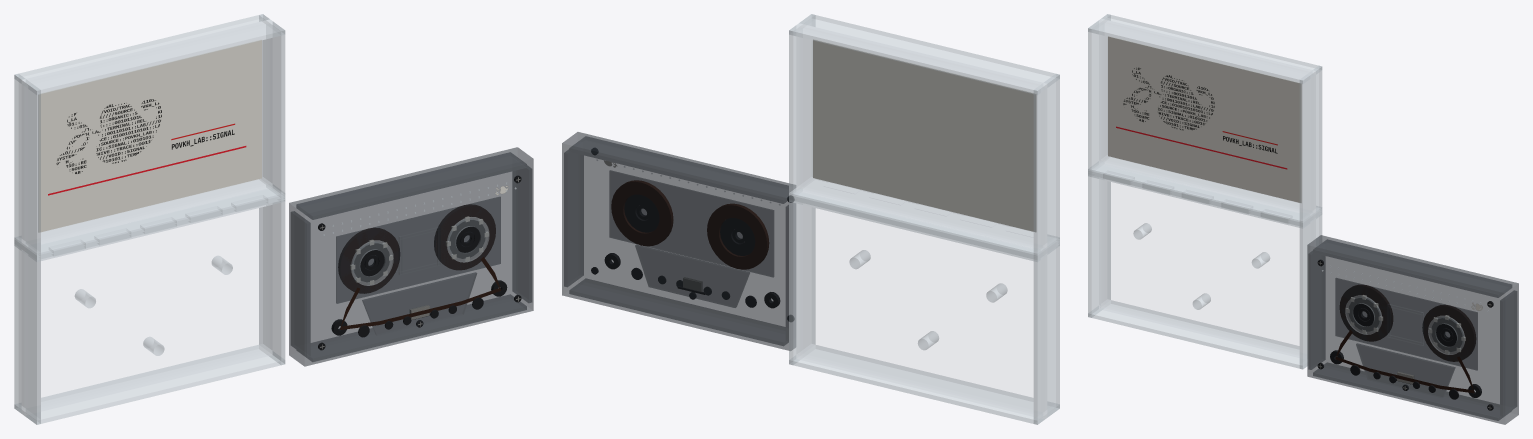
Rendered from cassette-002.glb.
The picture shows the model from 3 angles, left to right: view 1: azimuth 30°, elevation 25°; view 2: azimuth 150°, elevation 25°; view 3: azimuth 330°, elevation 25°; orthographic projection. The views are drawn at different scales.
Parts seen in each view (by area): view 1: Cassette_002_Display_Geometry, Cassette_002_Upper_Case_Coordinates; view 2: Cassette_002_Display_Geometry, Cassette_002_Upper_Case_Coordinates; view 3: Cassette_002_Display_Geometry, Cassette_002_Upper_Case_Coordinates.
Boxes of the visible parts, left/top/right/bottom form: Cassette_002_Display_Geometry: left=14, top=14, right=533, bottom=424; Cassette_002_Upper_Case_Coordinates: left=38, top=39, right=261, bottom=232; Cassette_002_Display_Geometry: left=562, top=14, right=1059, bottom=424; Cassette_002_Upper_Case_Coordinates: left=813, top=39, right=1036, bottom=231; Cassette_002_Display_Geometry: left=1088, top=14, right=1518, bottom=424; Cassette_002_Upper_Case_Coordinates: left=1108, top=36, right=1301, bottom=202.
Size of the model in its own units: 0.2147 by 0.14 by 0.0242.
Materials: 10 (2 with a texture image).
